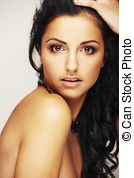face: (37, 1, 108, 102)
